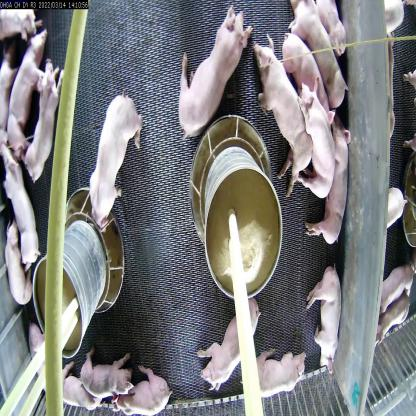Pig: (172, 9, 247, 140), (82, 96, 148, 222), (250, 34, 304, 184), (4, 28, 55, 168), (291, 1, 356, 98), (197, 290, 256, 396), (0, 120, 36, 270), (238, 340, 300, 415), (21, 67, 59, 181), (324, 111, 352, 259), (313, 269, 347, 386), (74, 340, 129, 402), (298, 82, 324, 211), (121, 367, 170, 415), (3, 225, 28, 307)
